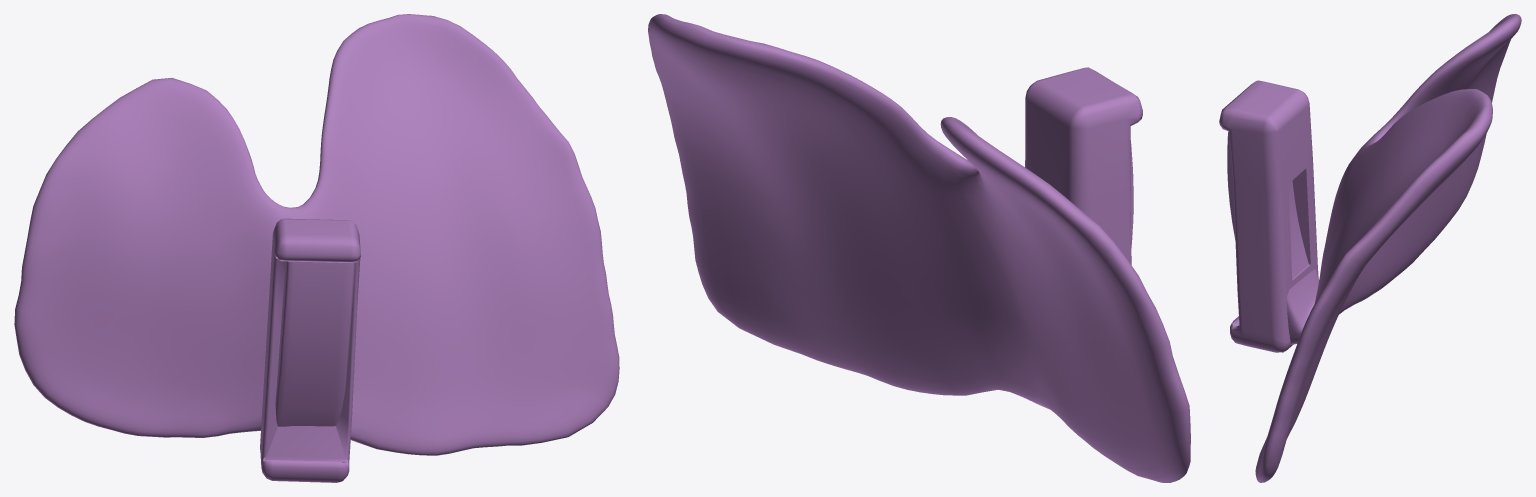
The model's file is TL1_Spacers_BaguetteMetal.001.glb.
The picture shows the model from 3 angles, left to right: view 1: azimuth 30°, elevation 25°; view 2: azimuth 150°, elevation 25°; view 3: azimuth 270°, elevation 25°; orthographic projection. The views are drawn at different scales.
Visible parts, largest first — view 1: TL1_Spacers_BaguetteMetal.001; view 2: TL1_Spacers_BaguetteMetal.001; view 3: TL1_Spacers_BaguetteMetal.001.
Part boxes in pixels (x1=…): TL1_Spacers_BaguetteMetal.001: x1=14, y1=14, x2=619, y2=482; TL1_Spacers_BaguetteMetal.001: x1=648, y1=14, x2=1190, y2=482; TL1_Spacers_BaguetteMetal.001: x1=1219, y1=14, x2=1521, y2=482.
Bounding box in the file's own units: 1.28 × 0.8657 × 0.6891.
